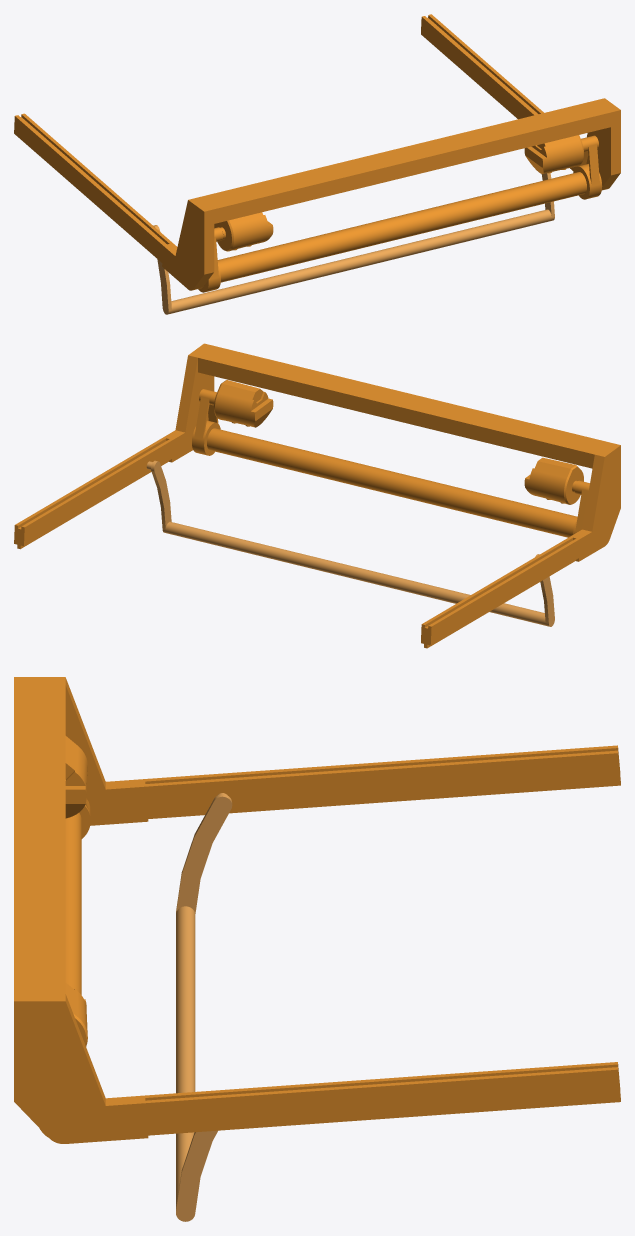
The picture shows the model from 3 angles, top to bottom: view 1: azimuth 30°, elevation 25°; view 2: azimuth 150°, elevation 25°; view 3: azimuth 270°, elevation 25°; orthographic projection. The views are drawn at different scales.
Parts seen in each view (by area): view 1: BLOCK CAD: Intake, BLOCK CAD: Intake Kickup Bar; view 2: BLOCK CAD: Intake, BLOCK CAD: Intake Kickup Bar; view 3: BLOCK CAD: Intake, BLOCK CAD: Intake Kickup Bar.
Part boxes in pixels (<box>): BLOCK CAD: Intake: <box>14,14,620,292</box>; BLOCK CAD: Intake Kickup Bar: <box>153,173,554,314</box>; BLOCK CAD: Intake: <box>14,343,620,648</box>; BLOCK CAD: Intake Kickup Bar: <box>146,460,554,626</box>; BLOCK CAD: Intake: <box>14,677,620,1143</box>; BLOCK CAD: Intake Kickup Bar: <box>176,793,232,1221</box>.
Bounding box in the file's own units: 0.7546 × 0.2522 × 0.5971.
